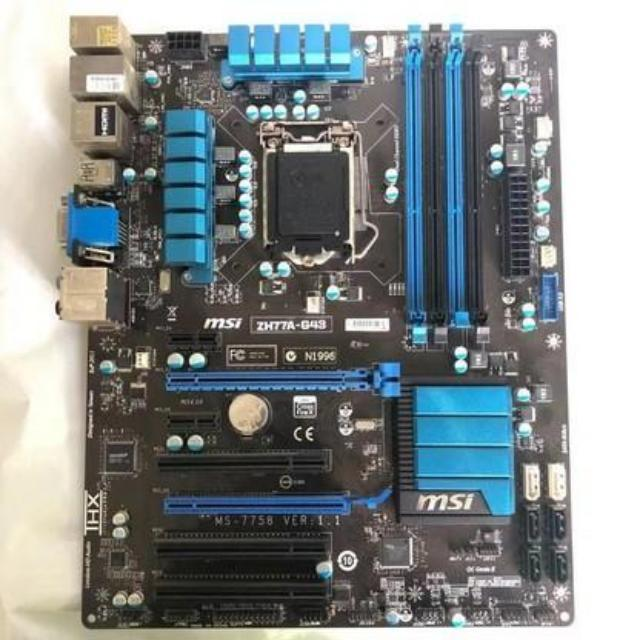Mainboard: (46, 0, 586, 637)
